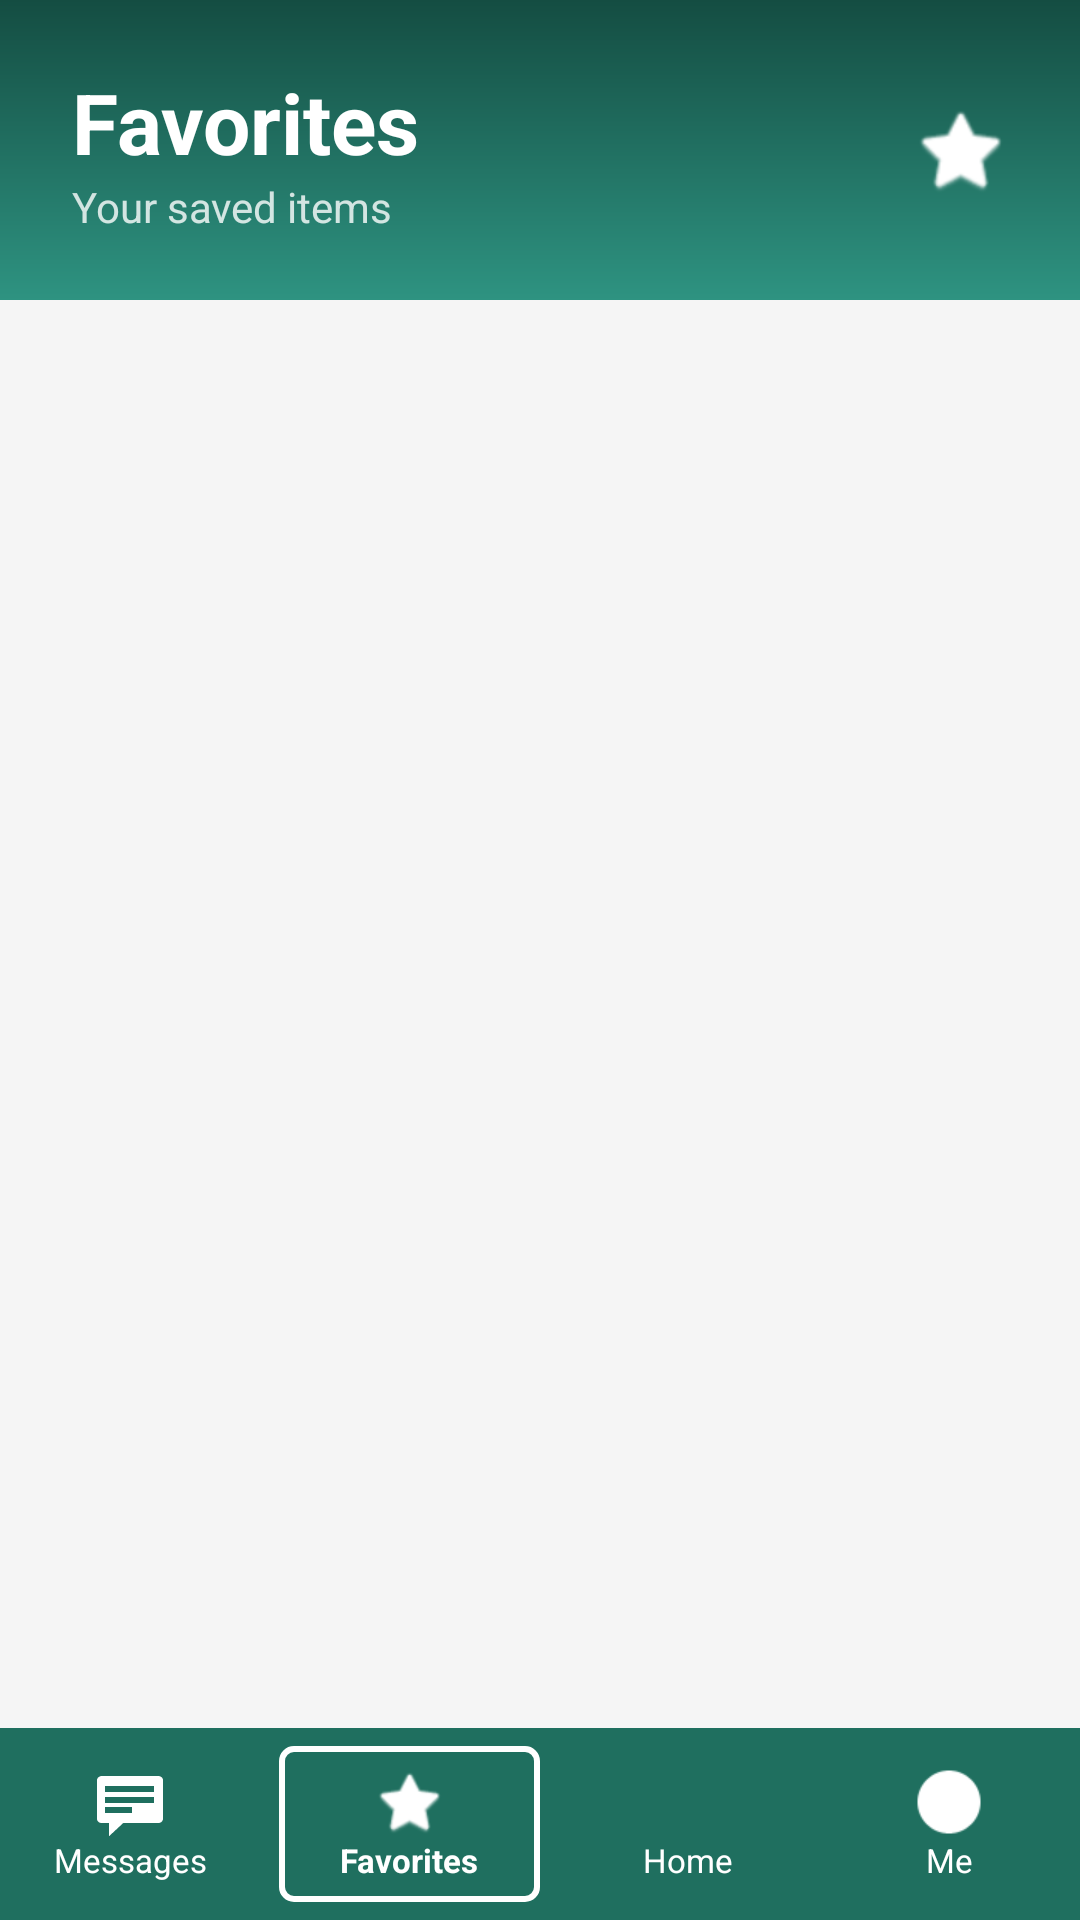

Point at icon controls on the screen. Image size 1080 x 1920, points as [x,y].
star on: [961,151]
